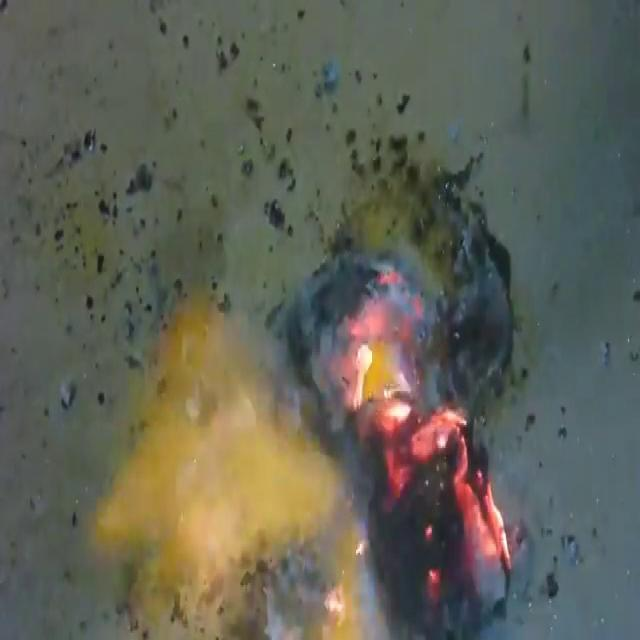Fire: (91, 148, 537, 640)
